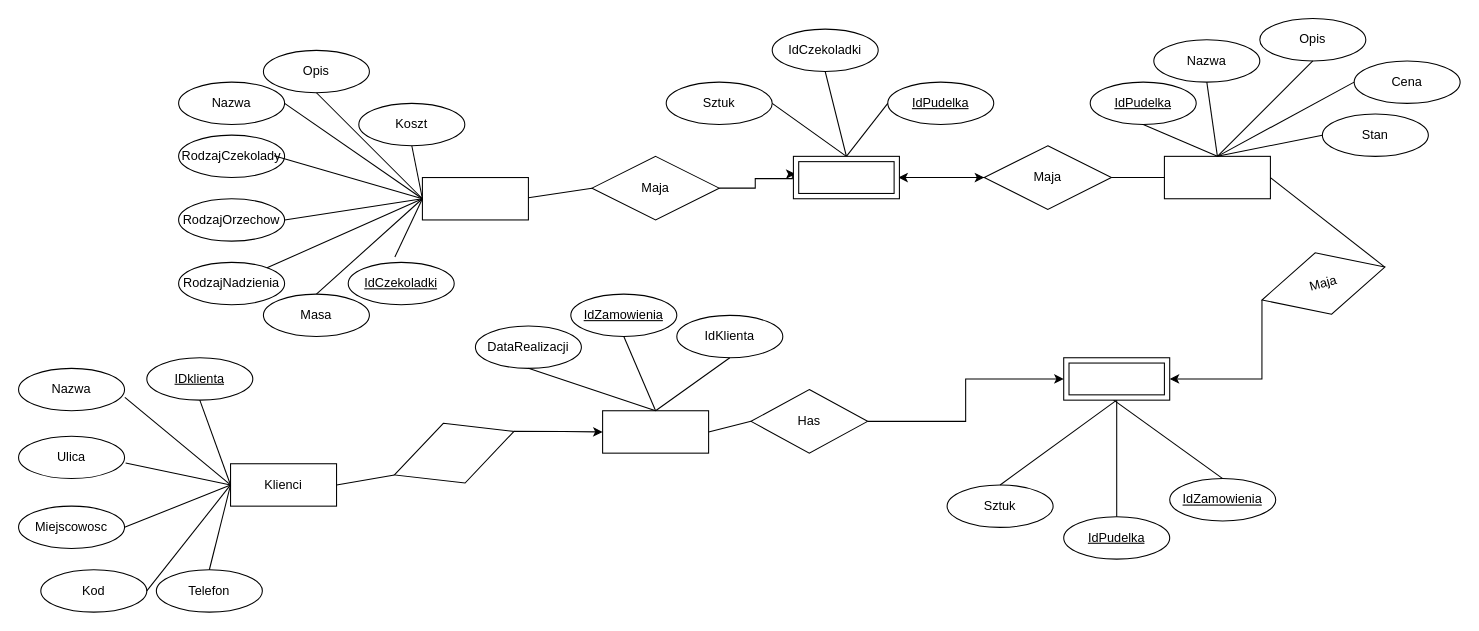
Image size: 1479x631. Some labels were removed from this diagram. The box of each missing label's shape, as (x1, y1, x2, y2) in pixels:
Artykuly: (1063, 357, 1170, 400)
Czekoladki: (421, 176, 528, 220)
Pudełka: (1163, 155, 1270, 199)
Skladaja: (382, 400, 525, 505)
Zamówienia: (602, 410, 709, 453)
Zawartość: (792, 155, 899, 199)
